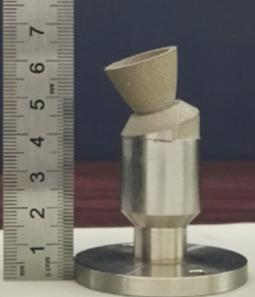thruster: (102, 45, 180, 116)
